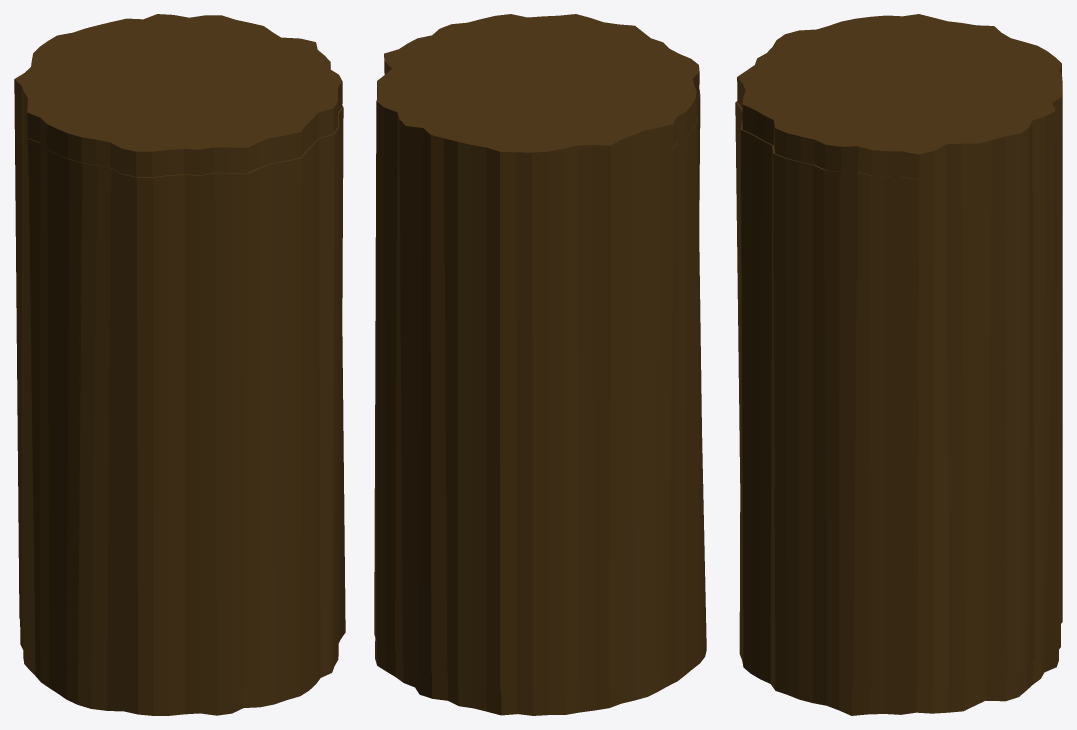
Rendered from SM_Logs.fbx.
3 renders of one model, left to right at view 1: azimuth 30°, elevation 25°; view 2: azimuth 150°, elevation 25°; view 3: azimuth 270°, elevation 25°, orthographic.
Visible parts, largest first — view 1: SM_LogLeft, SM_Log, SM_LogRight; view 2: SM_Log, SM_LogLeft, SM_LogRight; view 3: SM_Log, SM_LogRight, SM_LogLeft.
Part boxes in pixels (x1,y1,x2,y2): SM_LogLeft: [20, 138, 259, 715]; SM_Log: [14, 14, 342, 678]; SM_LogRight: [259, 105, 345, 707]; SM_Log: [374, 14, 704, 691]; SM_LogLeft: [458, 89, 706, 715]; SM_LogRight: [375, 638, 458, 705]; SM_Log: [737, 14, 1062, 690]; SM_LogRight: [739, 109, 1060, 715]; SM_LogLeft: [735, 101, 742, 482].
Size of the model in its own units: 27.88 by 52.06 by 27.41.
